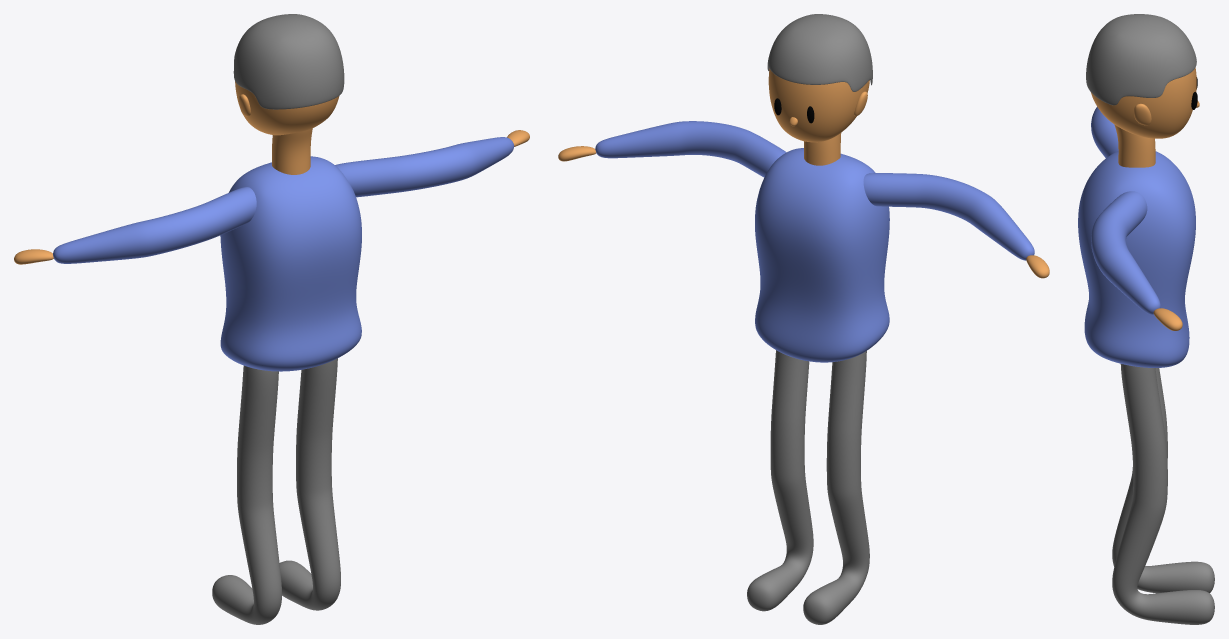
The model's file is NPC1.fbx.
3 views of the same model, side by side, from view 1: azimuth 30°, elevation 25°; view 2: azimuth 150°, elevation 25°; view 3: azimuth 270°, elevation 25° (orthographic). The views are drawn at different scales.
Visible parts, largest first — view 1: Cube.034; view 2: Cube.034; view 3: Cube.034.
Boxes of the visible parts, box(x1,y1,x2,y2) form: Cube.034: box(14, 14, 529, 624); Cube.034: box(558, 14, 1049, 624); Cube.034: box(1078, 14, 1214, 624).
Bounding box in the file's own units: 348 × 390 × 82.28.
